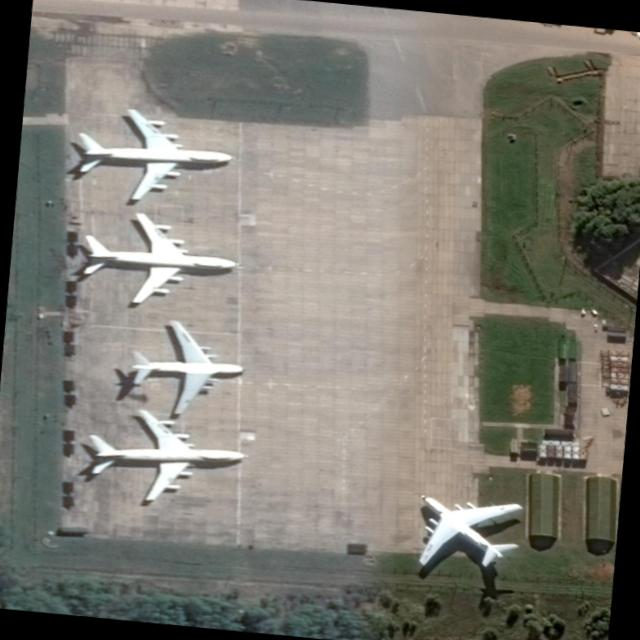plane: (374, 466, 547, 586), (79, 107, 235, 204), (85, 410, 249, 501), (82, 213, 237, 307), (127, 321, 246, 413)
